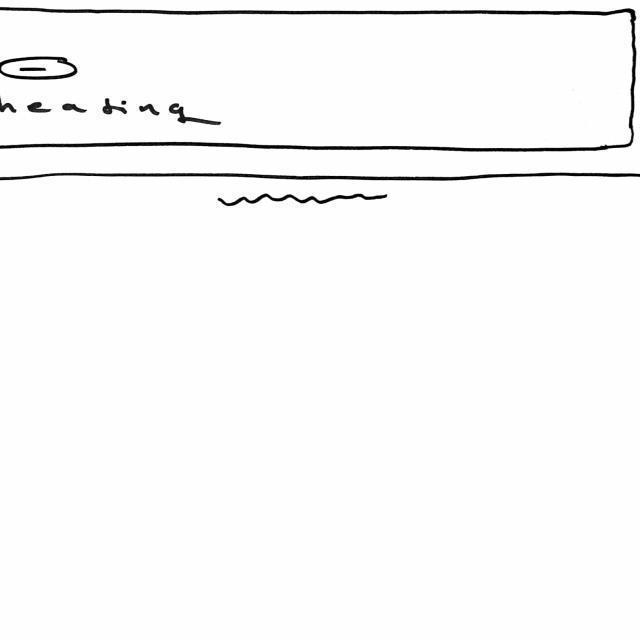container: (1, 7, 640, 152)
icon-button: (2, 54, 78, 82)
label: (1, 92, 222, 129)
text: (219, 192, 387, 210)
